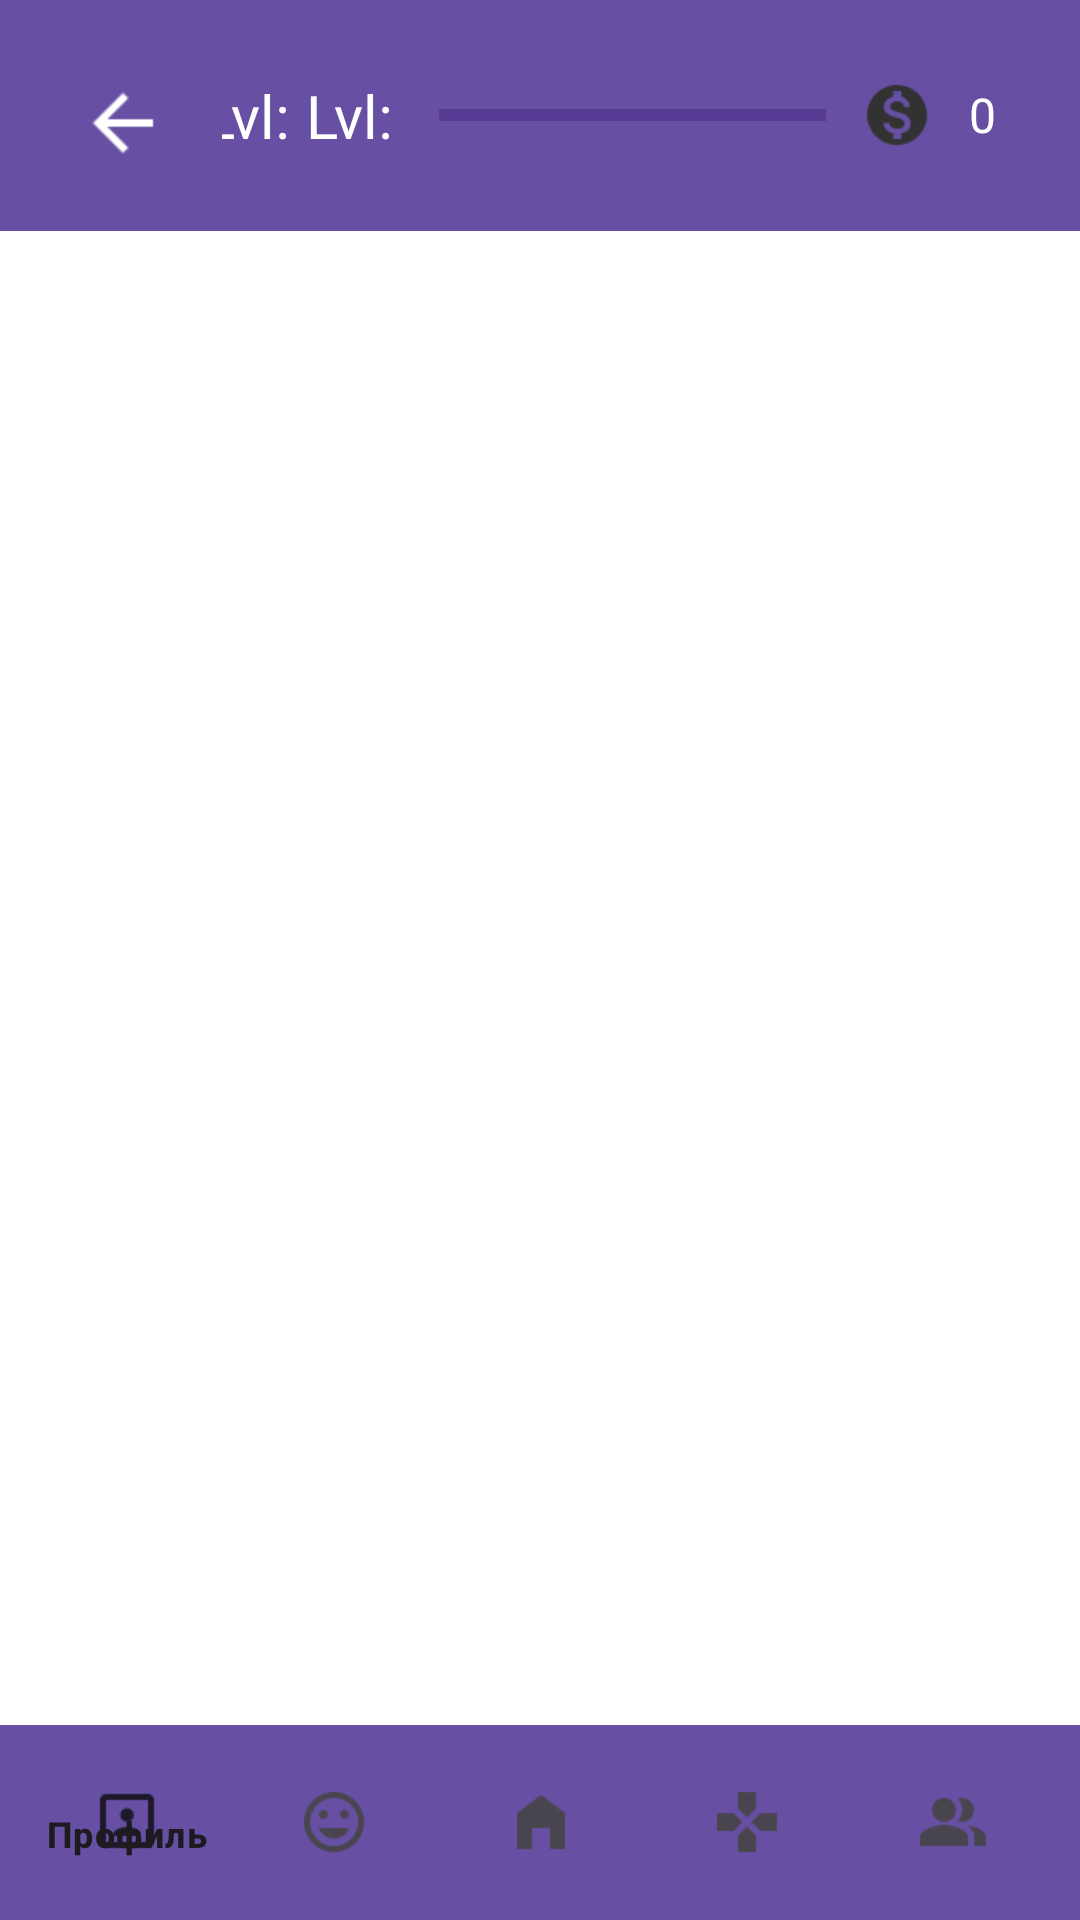

Locate icon controls on the screen. Image size 1080*1920, boxes as (x1, y1, x2, y2).
arrow left: (93, 93, 154, 153)
dollar: (867, 85, 927, 145)
